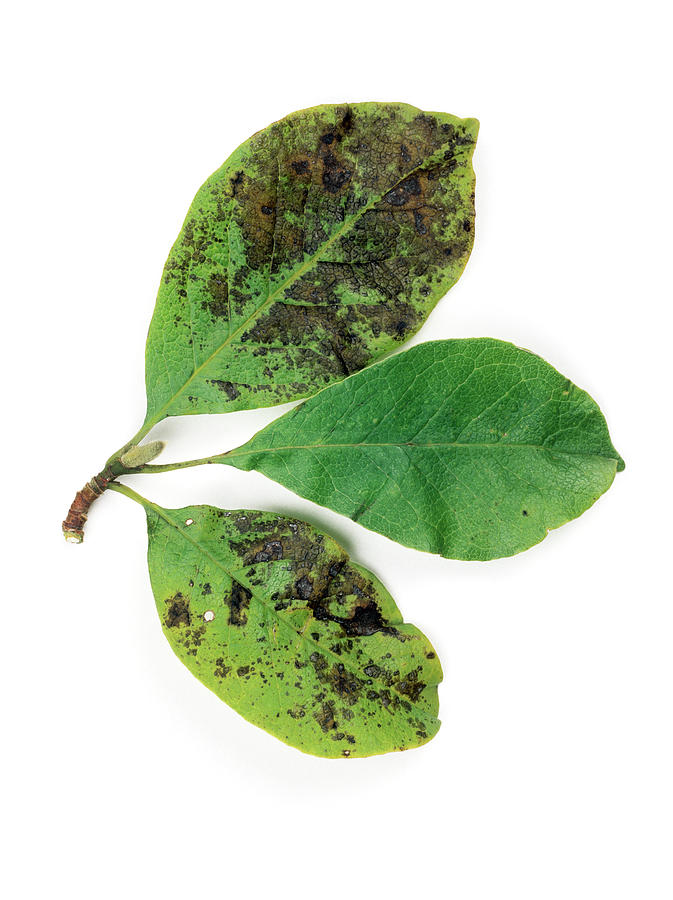unhealthy: (124, 68, 493, 425), (72, 473, 486, 775), (226, 334, 640, 575)
